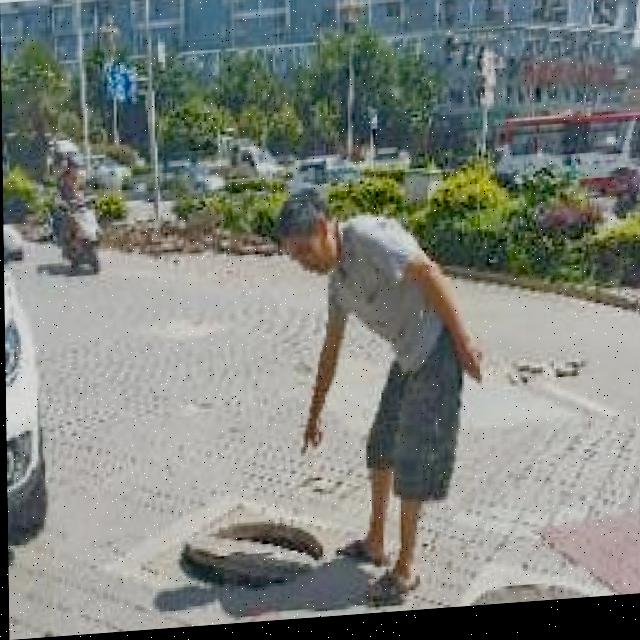manhole: (186, 500, 324, 596)
